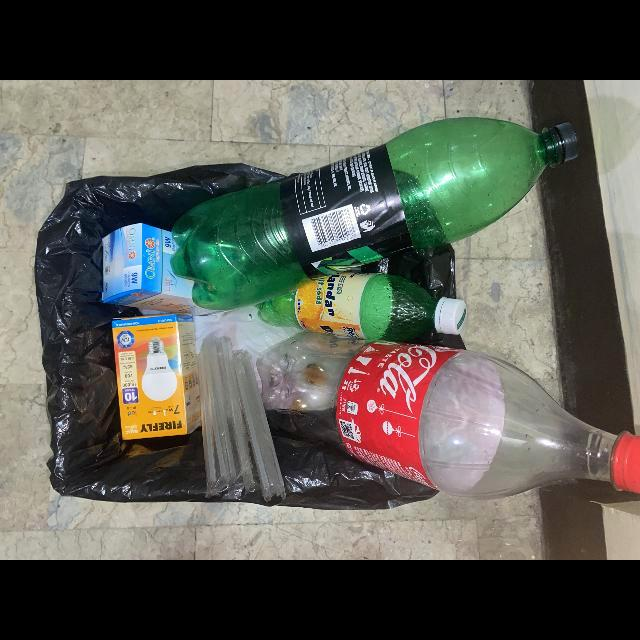cardboard: (102, 223, 224, 317), (111, 314, 201, 441)
plastic_bottle: (169, 117, 579, 312), (258, 334, 640, 500), (257, 272, 467, 342)
